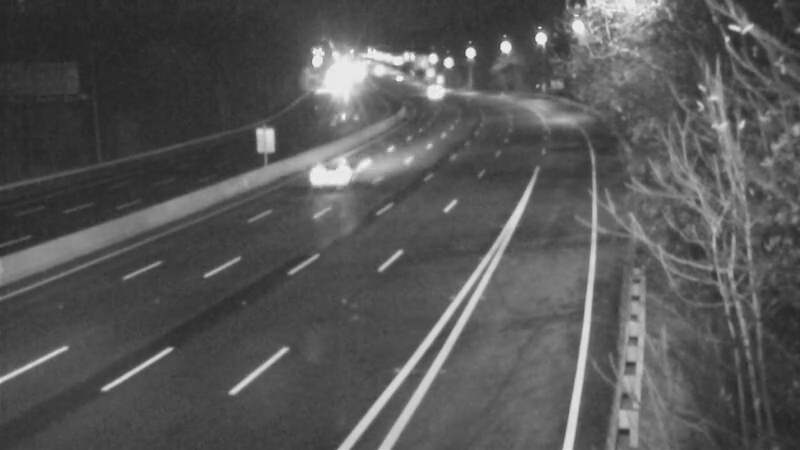vehicle: (288, 135, 368, 215), (370, 53, 420, 103), (408, 68, 458, 118)
